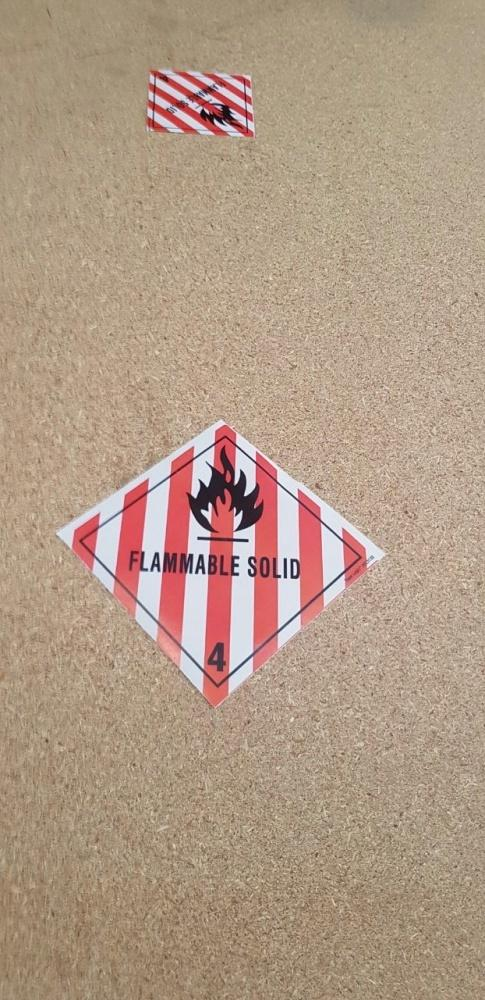flammable-solid: (55, 418, 388, 706), (145, 67, 256, 136)
